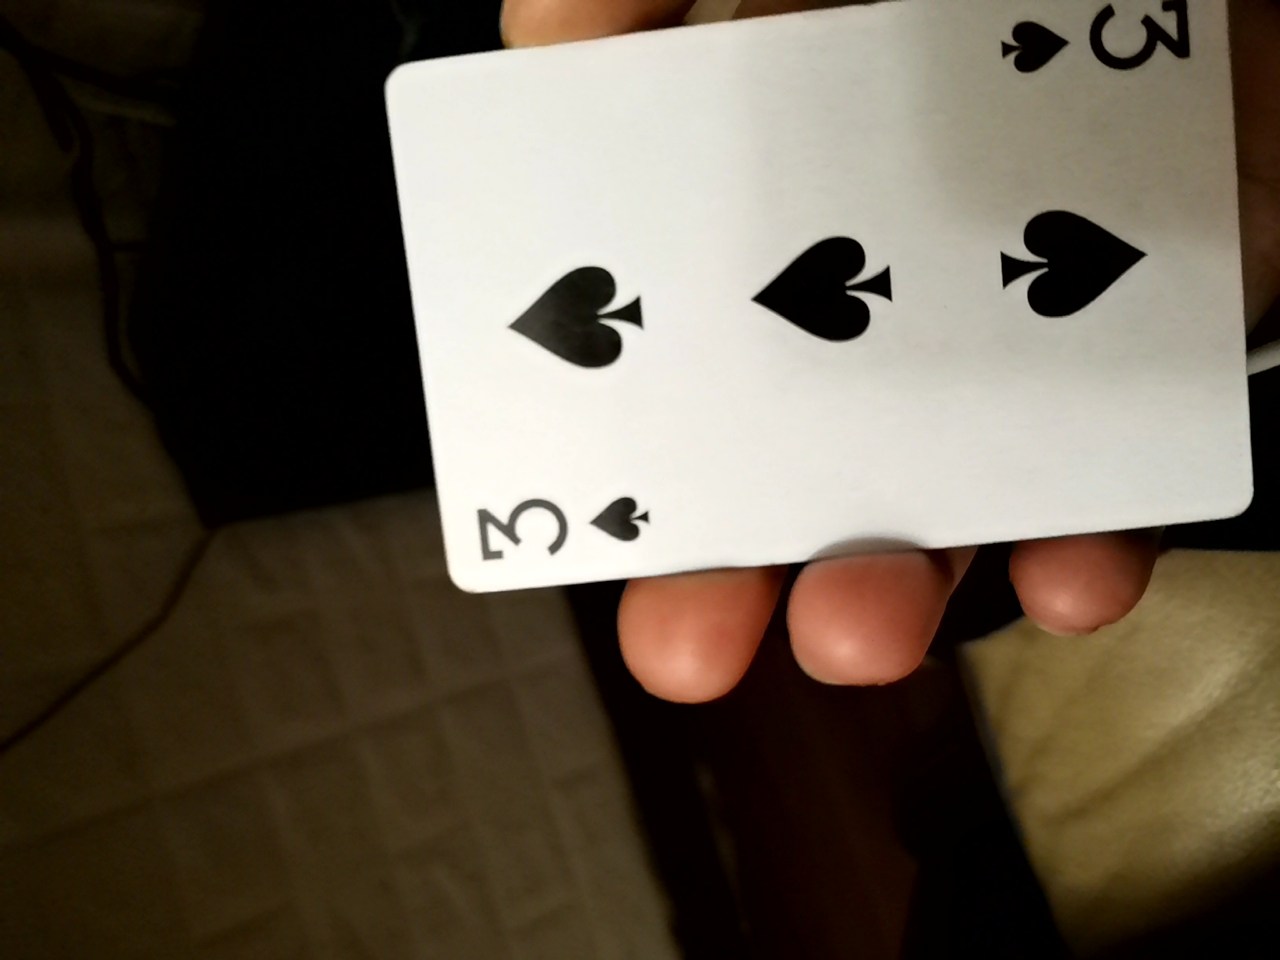ht 3: (399, 2, 1255, 610)
